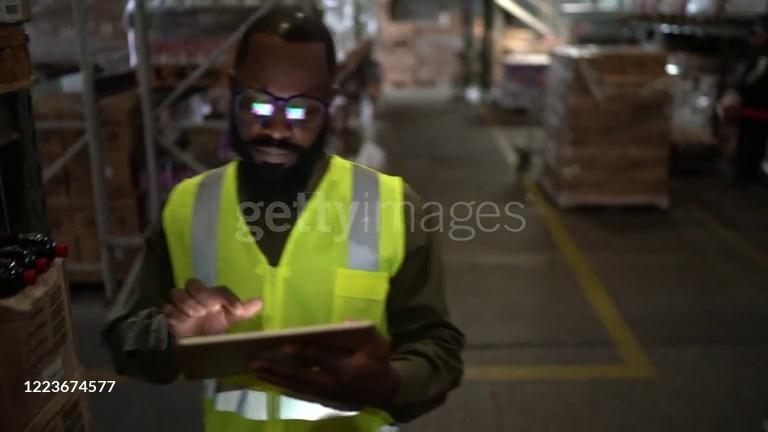person: (101, 0, 466, 432), (708, 17, 768, 186)
